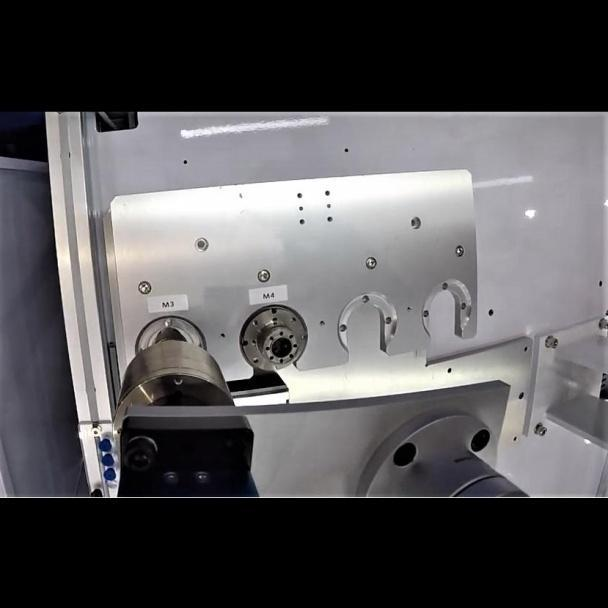hole: (193, 235, 211, 252), (409, 215, 422, 229)
